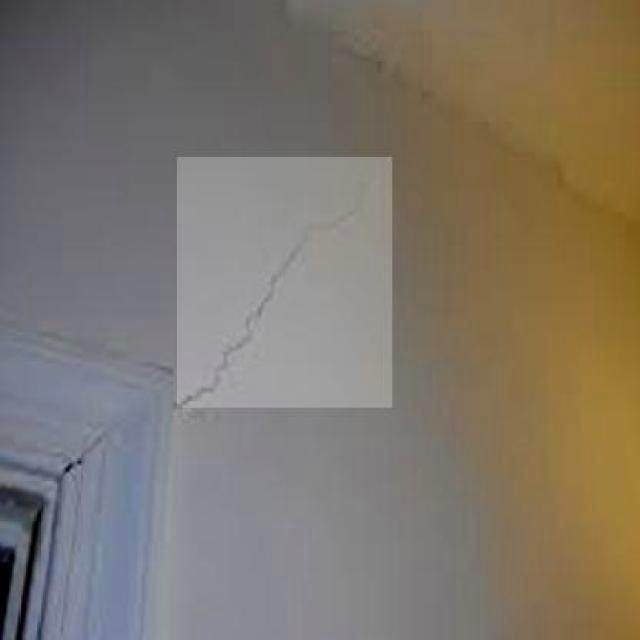SurfaceCrack: (174, 140, 420, 430)
